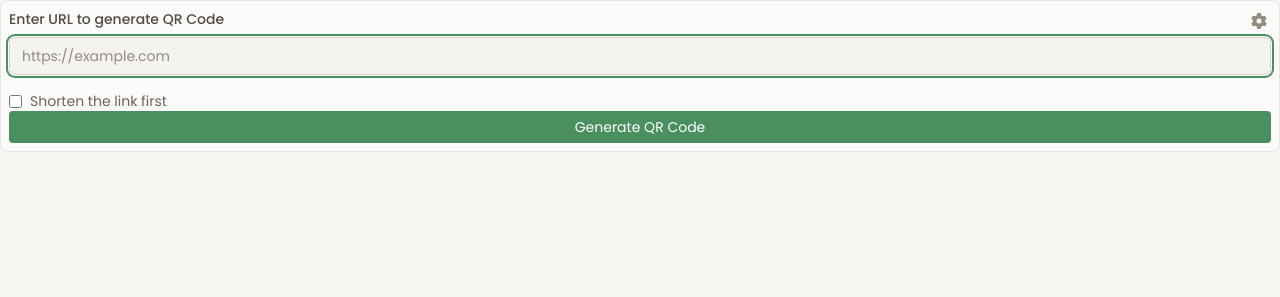
Test case: QRCodeWidget › a failed shorten still renders the QR code and shows the error
Type "https://example.com/lesson" into the field with placeholder "https://example.com" at (640, 56), box [9,37,1271,75]
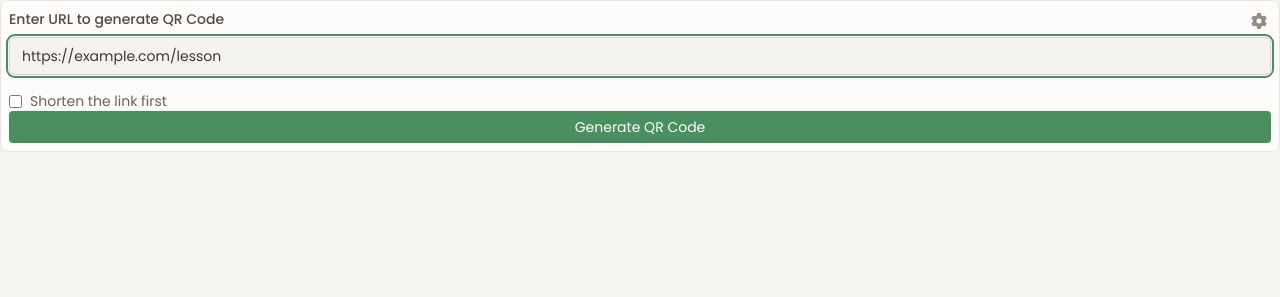
Click the checkbox labelled "Shorten the link first" at (16, 101), box [9,94,22,108]
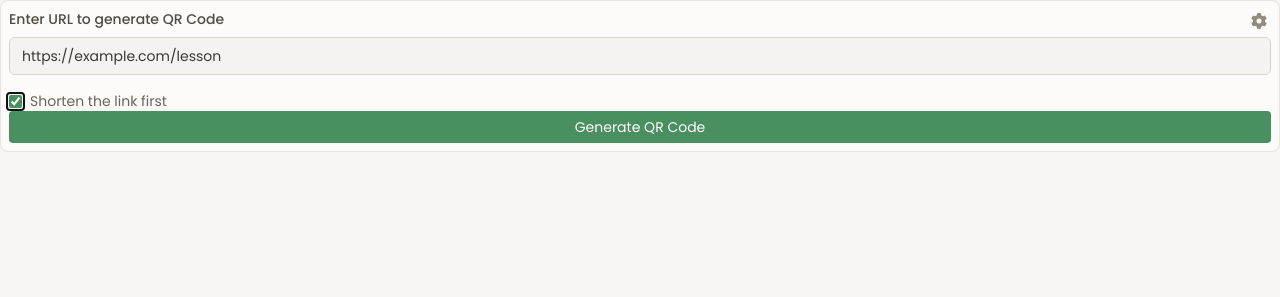
Click the button "Generate QR Code" at (640, 127), box [9,111,1271,143]
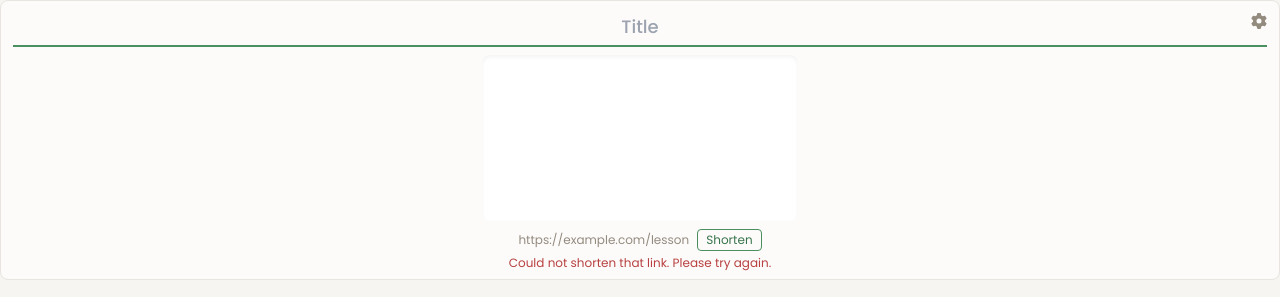
Result: the text "Could not shorten that link. Please try again." is shown at [509,254,771,271]
Result: the text "https://example.com/lesson" is shown at [518,232,689,248]
